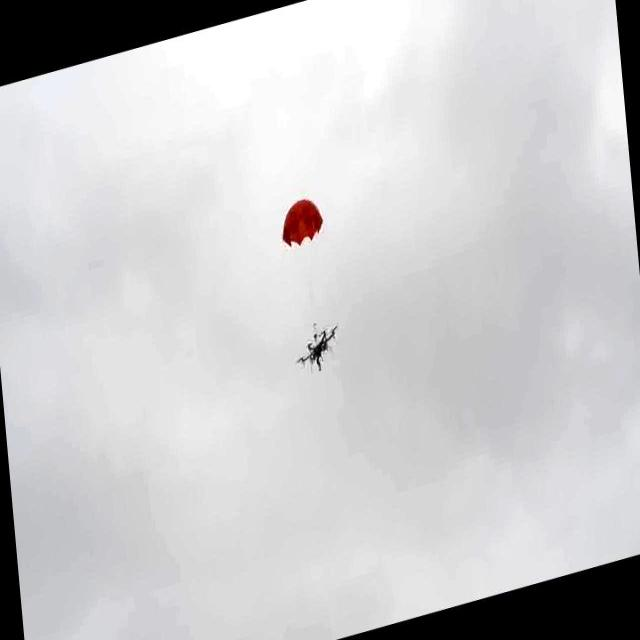drone: (295, 325, 341, 376)
